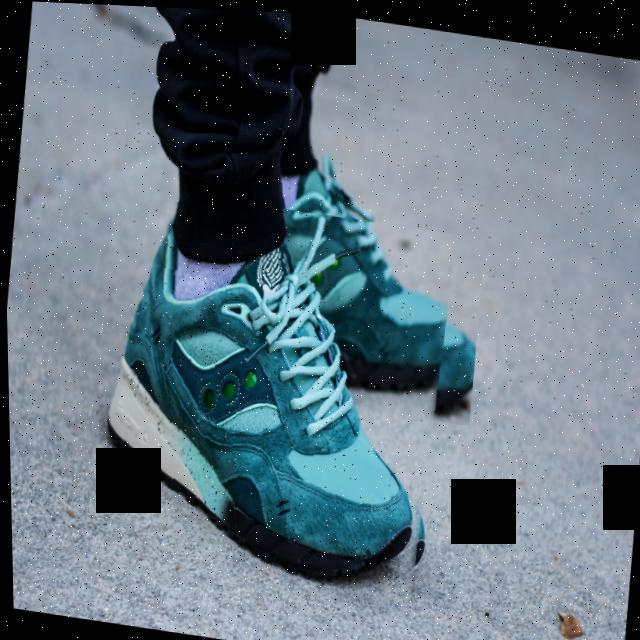shoe: (73, 180, 464, 619), (249, 140, 494, 422)
